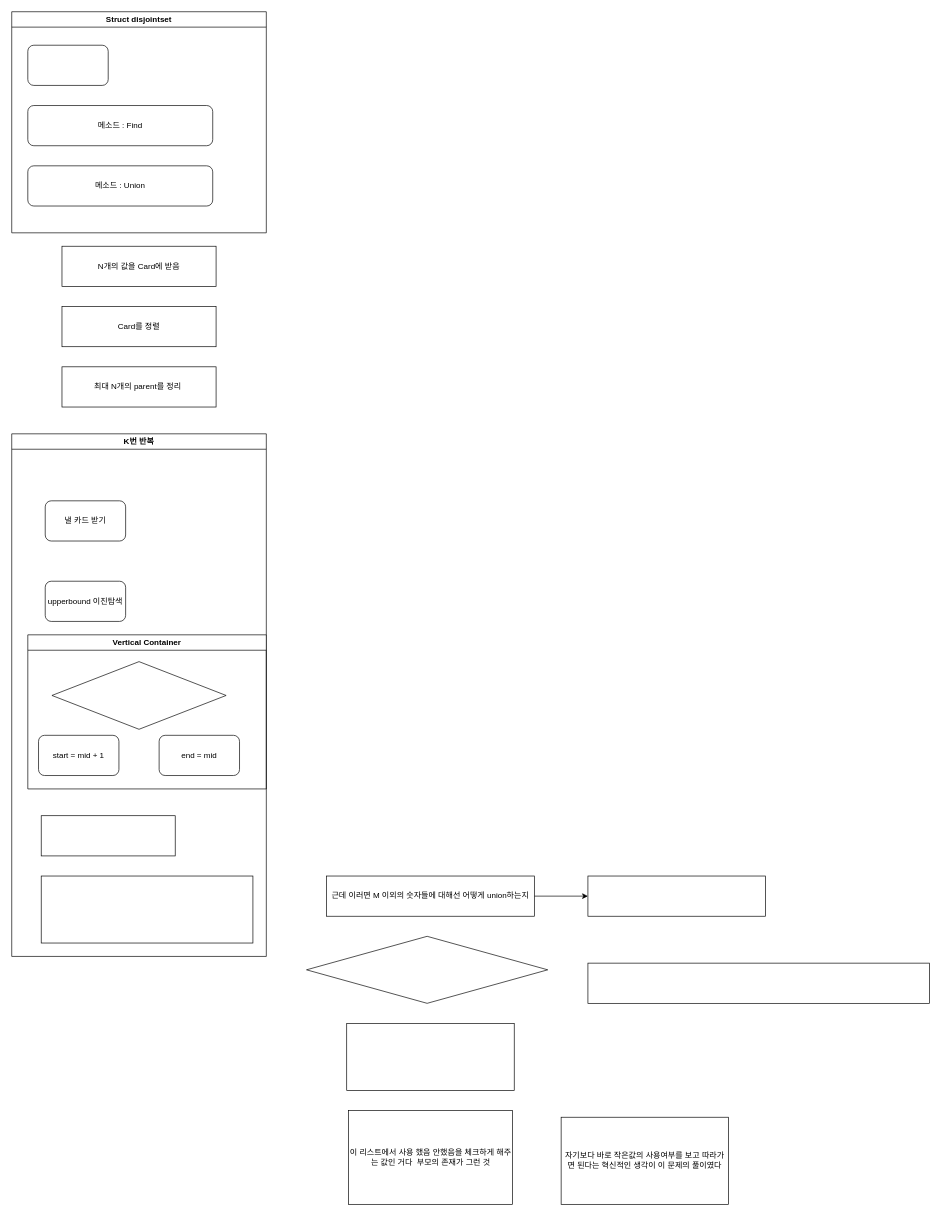
Some shapes in this 941 by 1216 pixel diagram are drawn without their labels. Here are the shapes that lost their labels. From the top down, the centre of each, then its label:
At pixel 67 65: "n개의 parent".
At pixel 138 695: "정렬된 리스트 중간값의 조상이 q보다 크거나 같나?".
At pixel 108 835: "조상이 q보다 upperbound인 값 출력".
At pixel 147 909: "경우에 따라 그 값이 최소값일때를 제외할떄 (root) 더는 이 값을 사용하지 못한다는 뜻에서 이값과 0또는 바로 이전값을 서로 union한다".
At pixel 676 895: "card에서 찾은 값 (m 안에 속함)을 기준으로 찾기 때문에 합치기 쉬움".
At pixel 427 969: "이전값이 쓰인적 있는지를 확인하기 위해 부모를 쓰는 것".
At pixel 758 982: "결국 전부다 root로 이동하게 되는거 사실임 부모가 root이면 사실상 이 값은 쓰이지 않을 확률이 높음".
At pixel 430 1056: "확인됐다면 자기보다 작은 직전값 또는 직전값의 부모값을 받게되어 자연스레 사용했다는 처지가된다".
